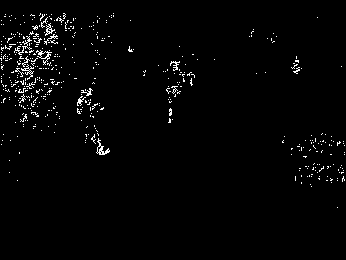person: (76, 86, 109, 157)
